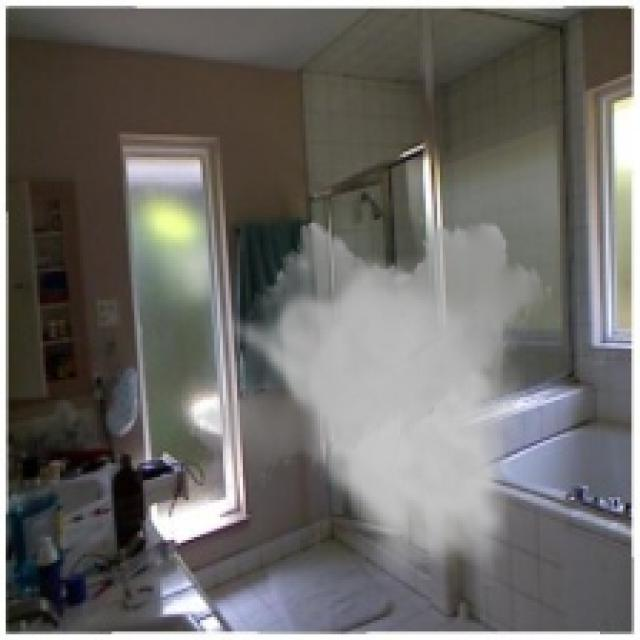smoke: (186, 211, 554, 586)
